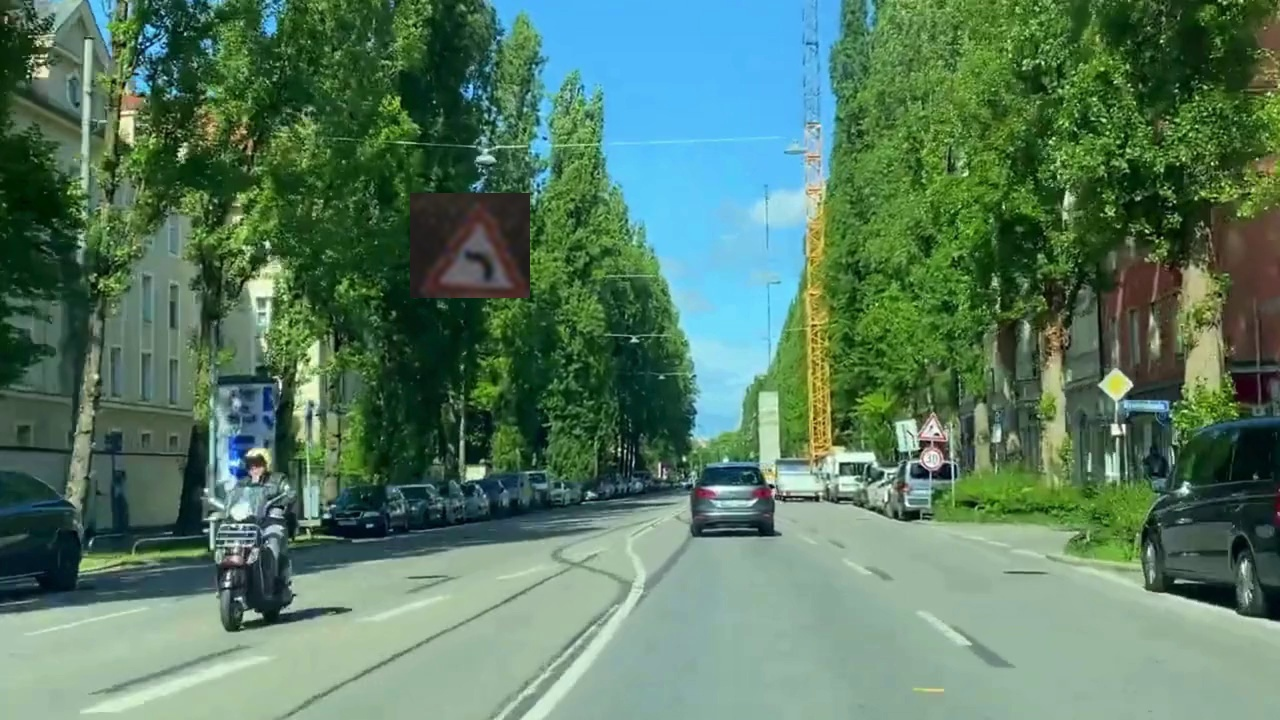Curve left: (410, 193, 530, 298)
